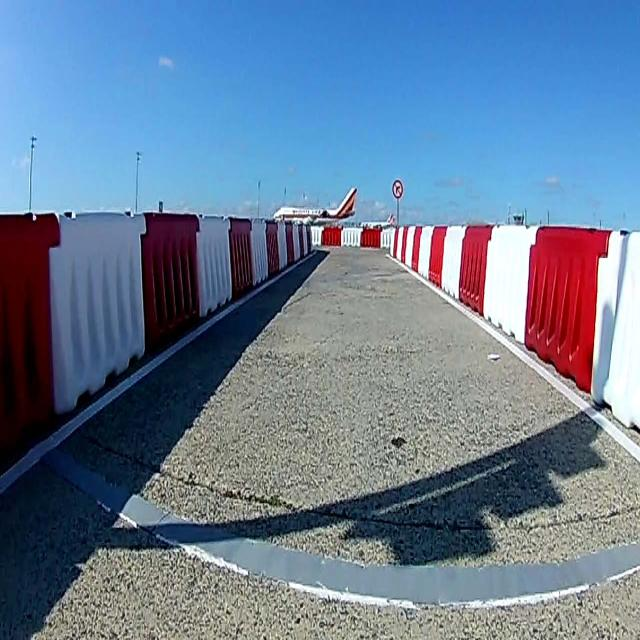sagadonulmez: (391, 177, 404, 200)
